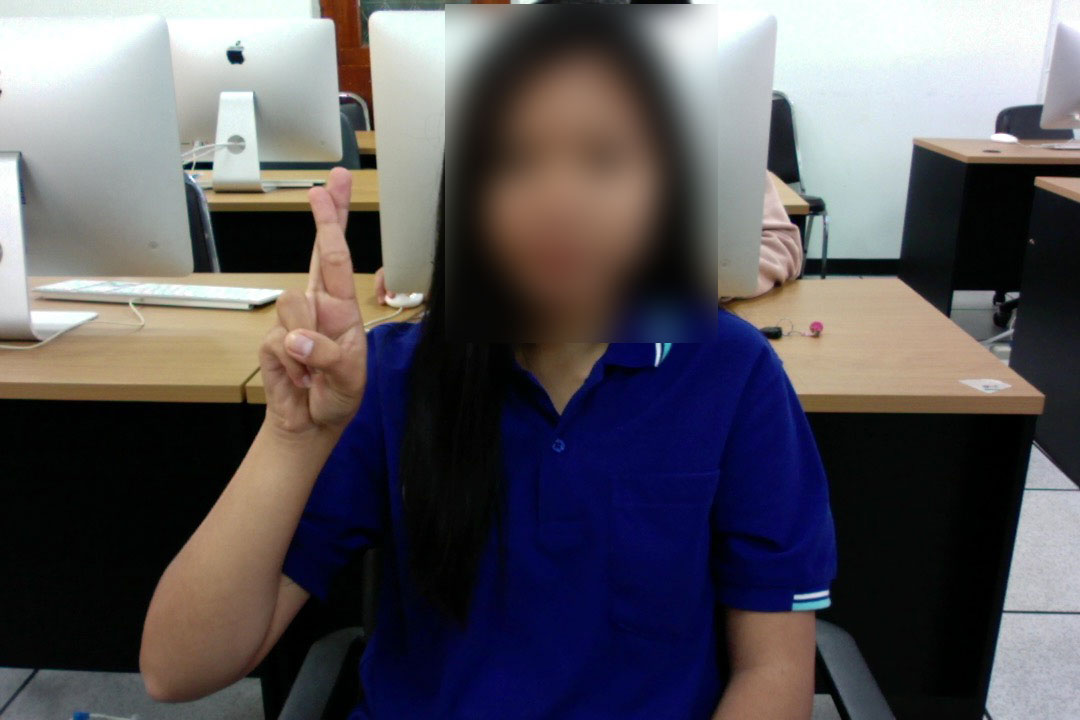rao: (253, 164, 380, 444)
